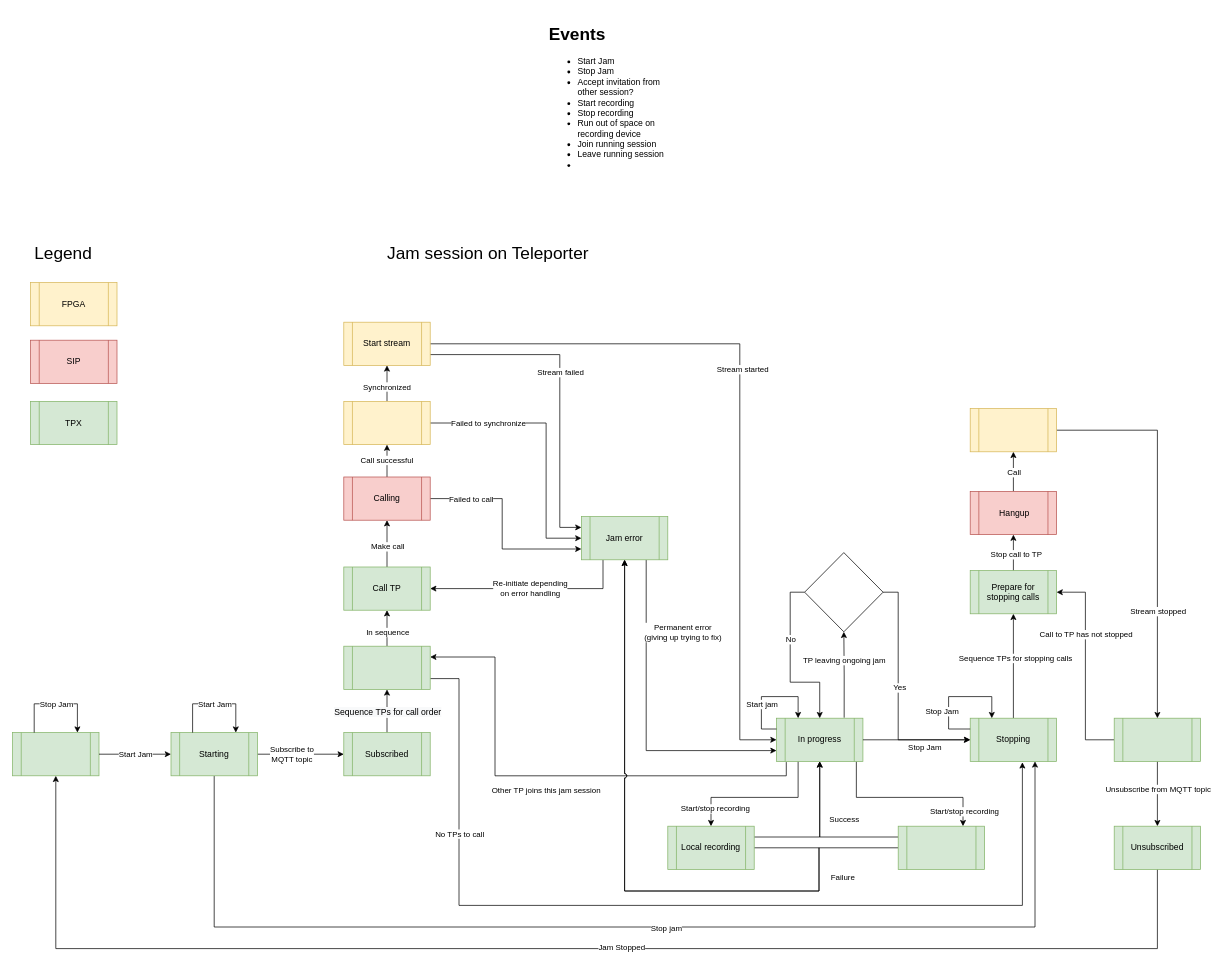
Image size: 1223x967. Some labels were removed from this diagram. Each missing label, with the box of its shape:
Idle: (12, 732, 99, 776)
Is it this TP leaving the jam?: (804, 552, 883, 632)
Multi recording: (897, 825, 985, 869)
Prepare for calls: (343, 645, 430, 689)
Stop stream: (969, 408, 1057, 452)
Stopped: (1113, 717, 1201, 761)
Synchronize: (343, 401, 430, 445)
